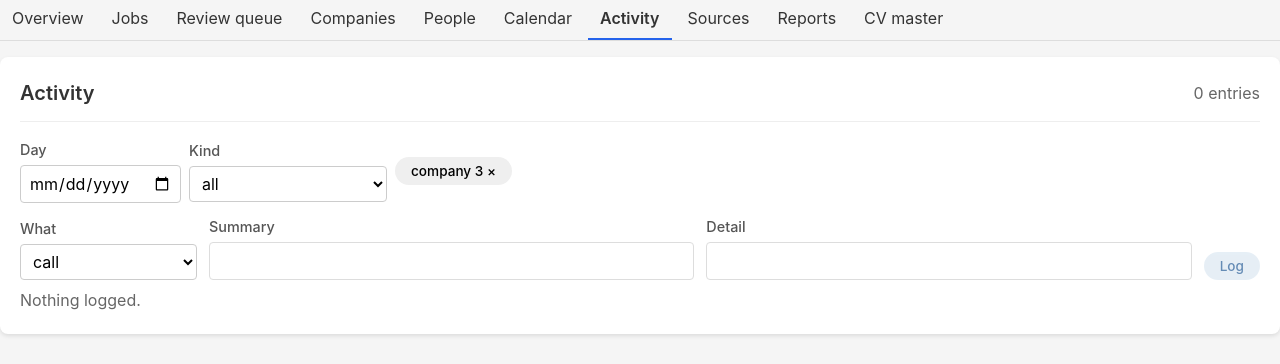
Test: MasiActivity › logs a note from the form and shows it at the top
expect the text "Nothing logged." is shown: met, box x1=20 y1=290 x2=141 y2=310
Select "note" in the dropdown labelled "What": (108,262) x1=20 y1=244 x2=197 y2=280
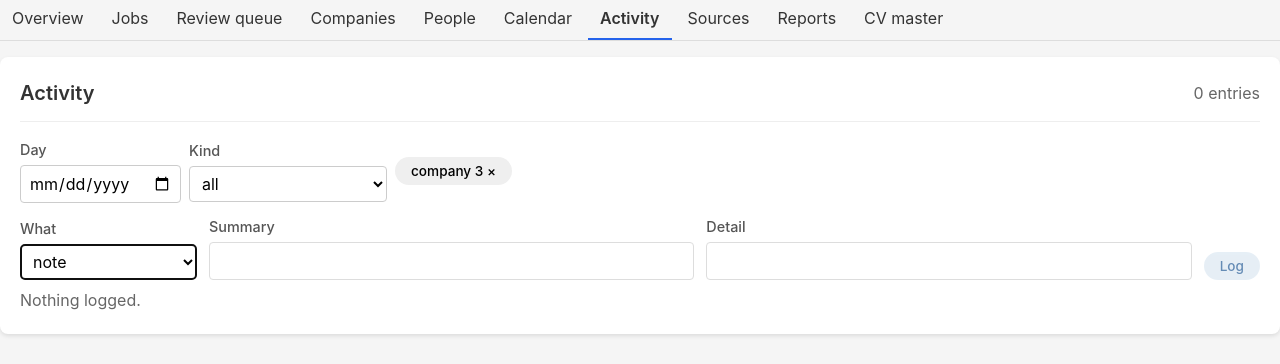
In the field labelled "Summary": (452,262) x1=209 y1=242 x2=694 y2=280, type "Ping them Friday"
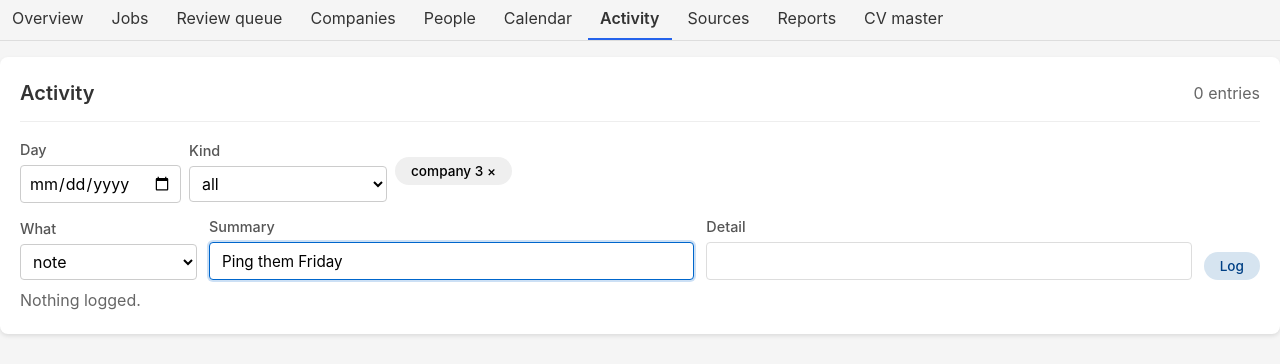
Click the button "Log": (1232,266) x1=1204 y1=252 x2=1260 y2=280
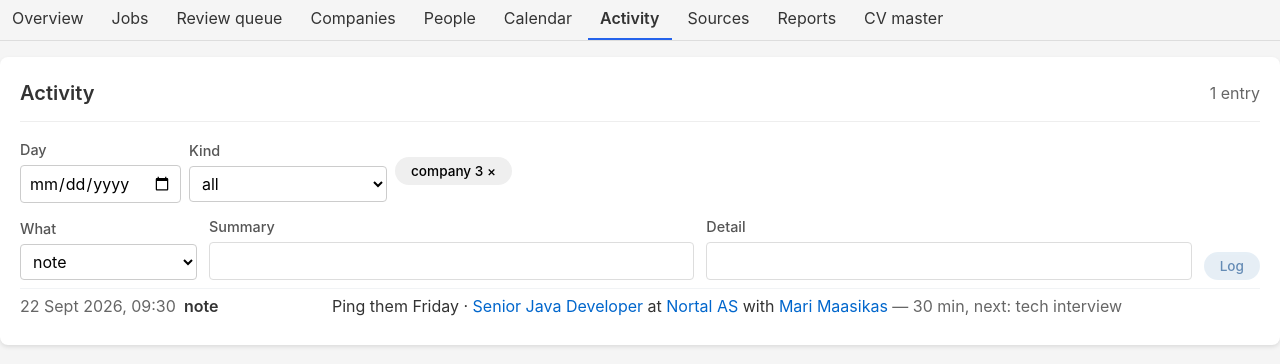
expect the text "Ping them Friday" is shown: met, box x1=332 y1=296 x2=459 y2=316
